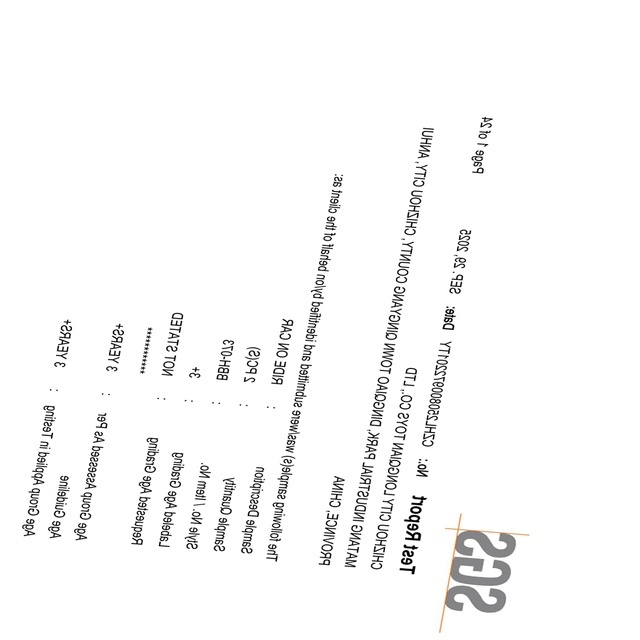sgs: (446, 530, 516, 614)
